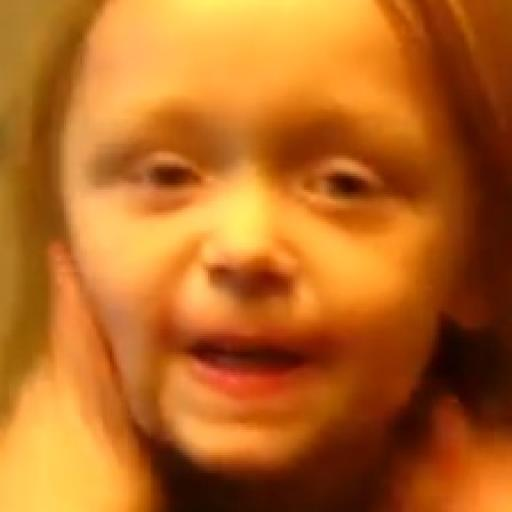Autism: (35, 14, 502, 498)
